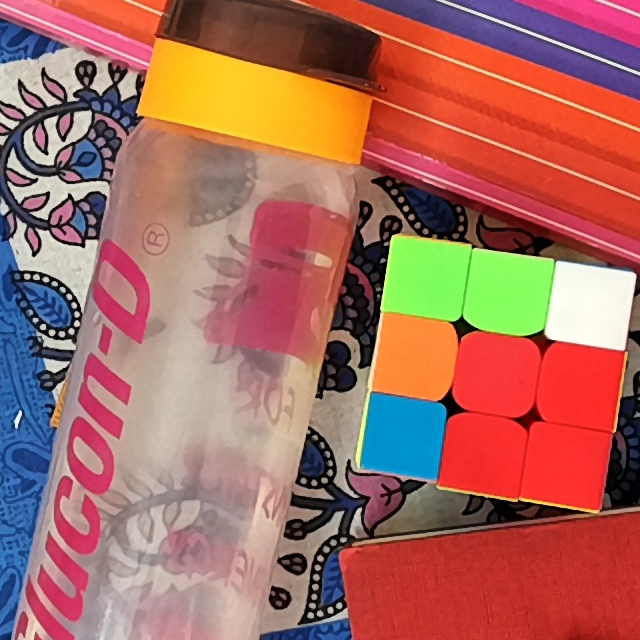tile: (464, 343, 531, 405), (474, 261, 542, 321), (382, 325, 446, 388), (450, 427, 516, 488), (560, 271, 622, 335), (551, 351, 613, 415), (533, 434, 598, 495), (395, 247, 459, 308), (370, 408, 435, 467)
